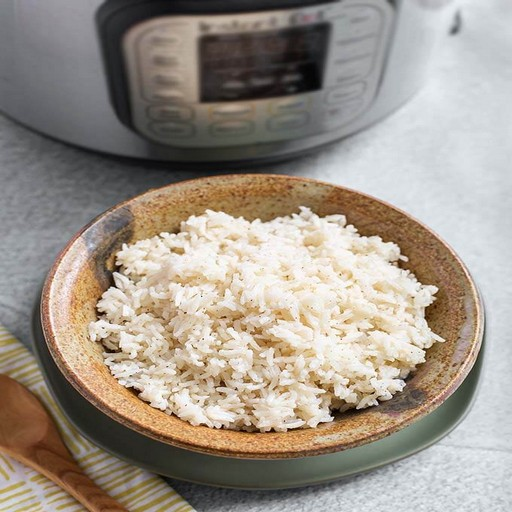rice: (152, 266, 327, 357)
